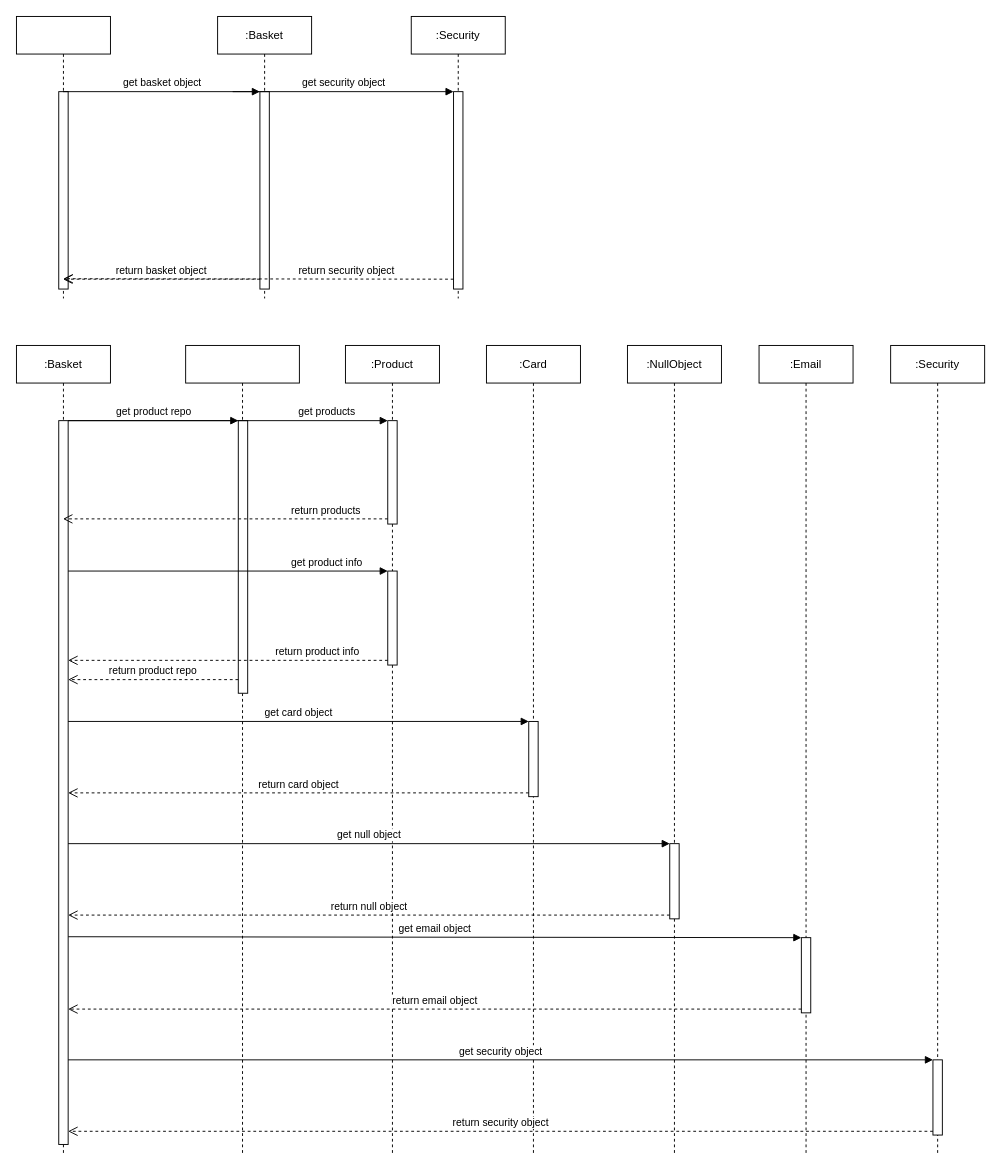
The diagram is 1001 pixels wide and 1170 high, and some of its shapes have lost their labels. Each missing label, with the box of its shape:
:OrderController: (16, 16, 110, 298)
:ProductRepository: (185, 345, 299, 1154)
